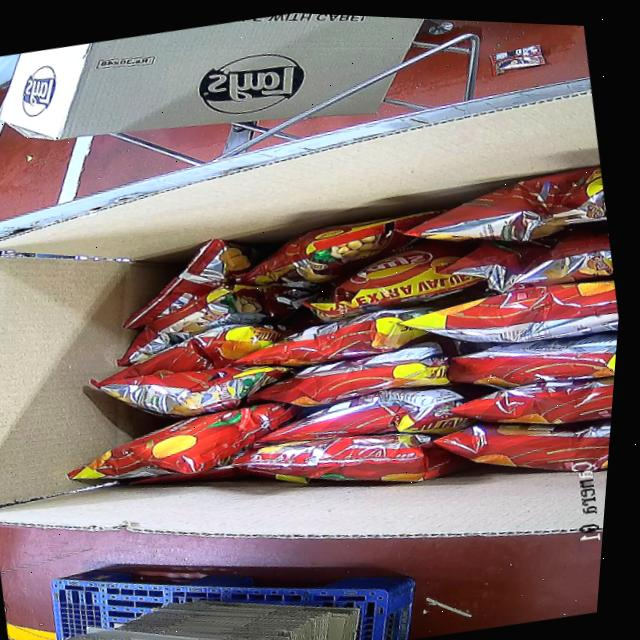MASALA: (20, 141, 630, 569)
